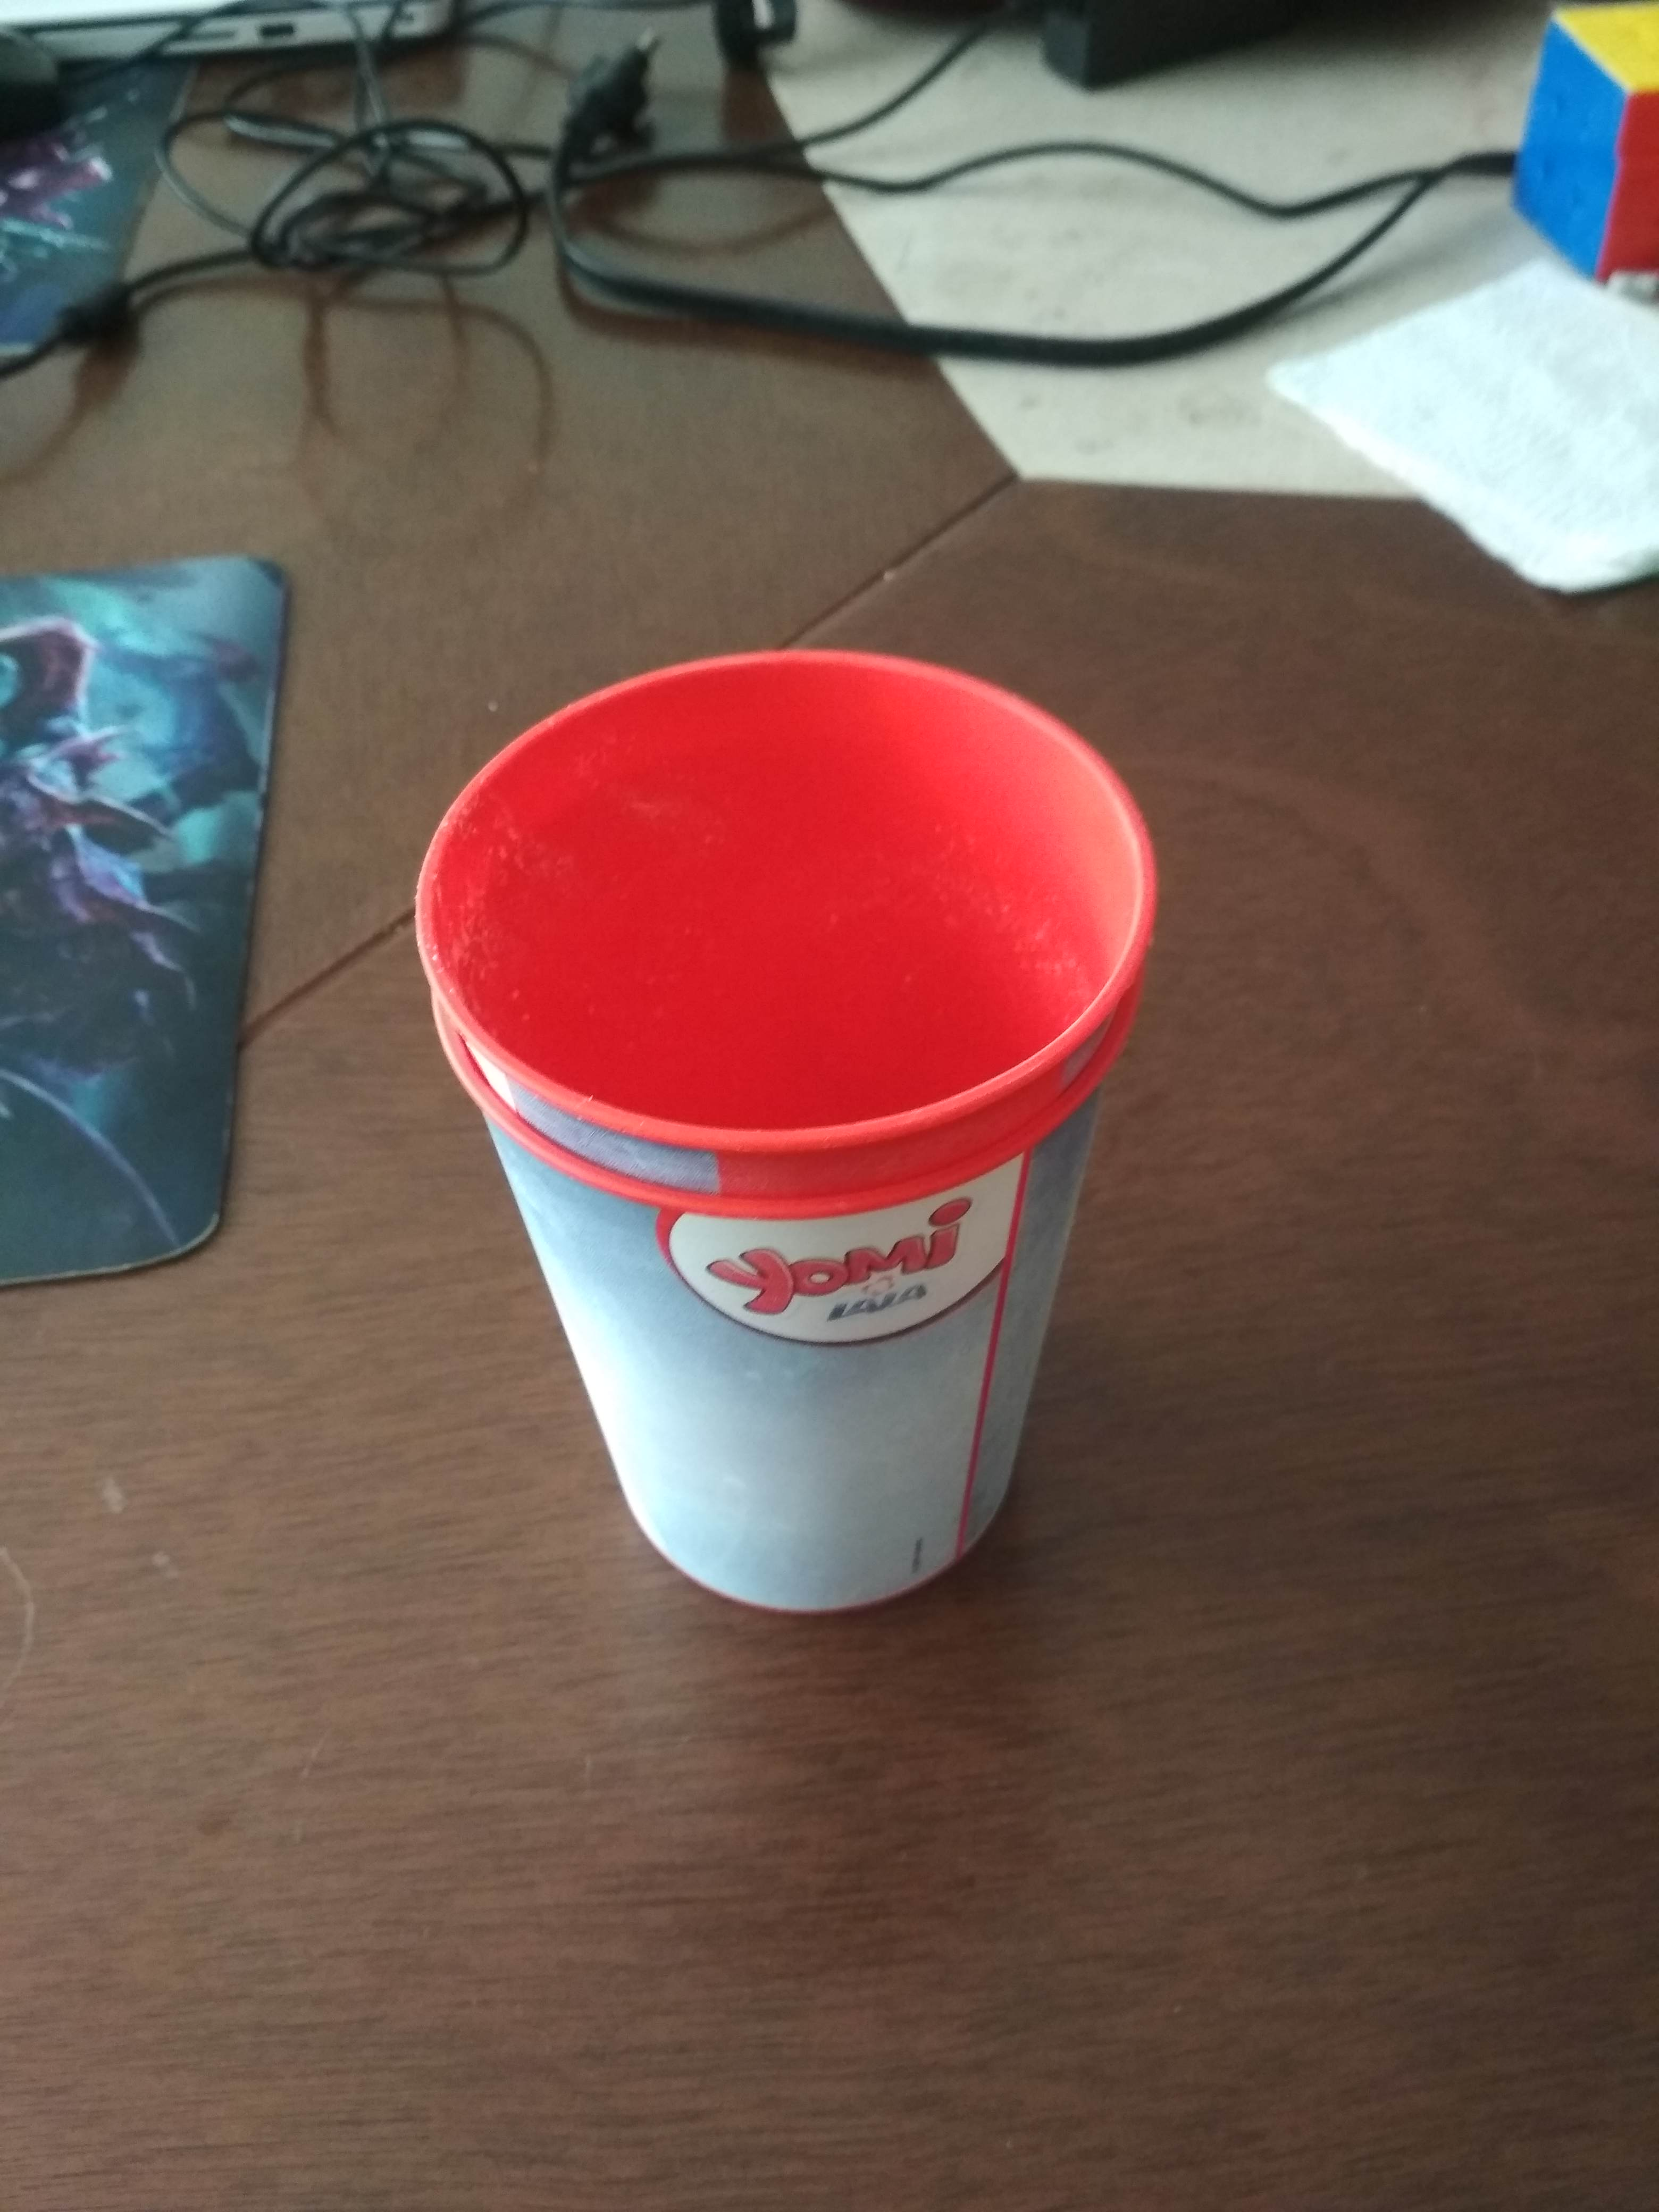glass: (390, 625, 1185, 1644)
rubik_cube: (1485, 9, 1659, 314)
